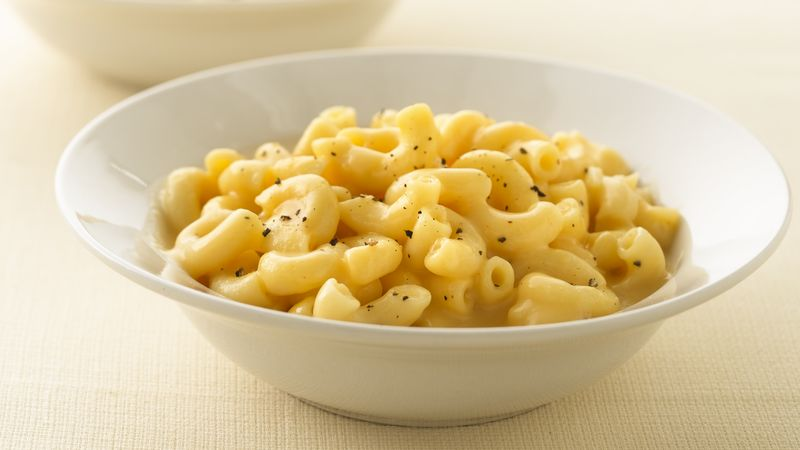macncheese: (157, 96, 681, 335)
